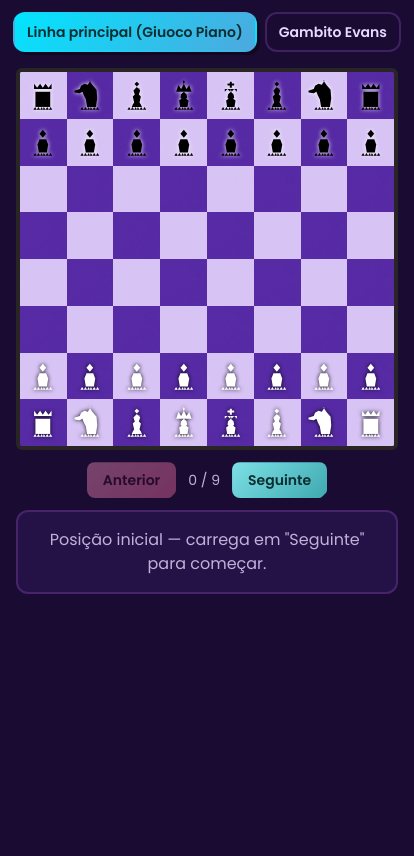
it: OpeningStudy › advances one move per "Seguinte" click, with correct move labels
Click the button "Seguinte": (280, 480) [232,462,327,498]
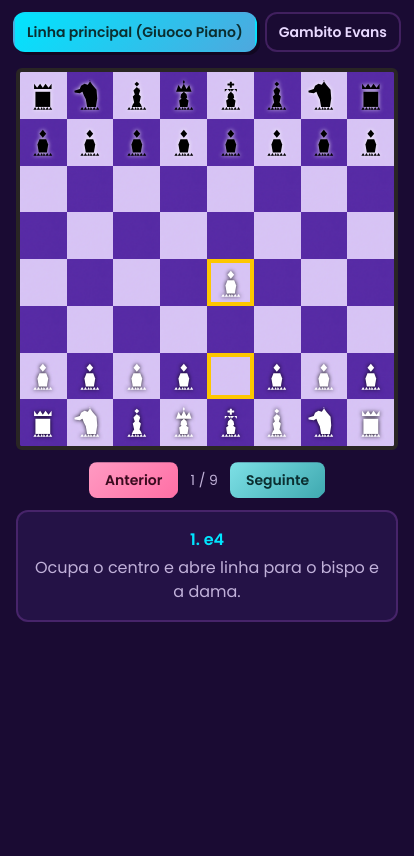
Expected: the text "1. e4" is shown, [190,528,224,551]
Expected: the text "Ocupa o centro e abre linha para o bispo e a dama." is shown, [34,556,380,604]
Click the button "Seguinte": (277, 480) [230,462,325,498]
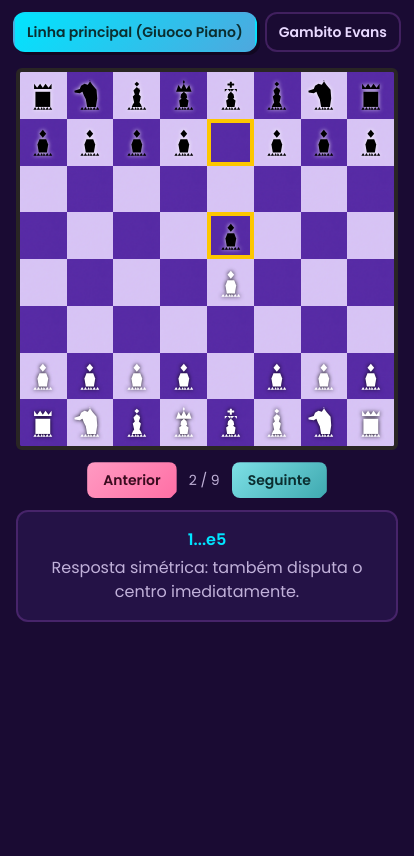
Expected: the text "1...e5" is shown, [188,528,226,551]
Expected: the text "Resposta simétrica: também disputa o centro imediatamente." is shown, [34,556,380,604]
